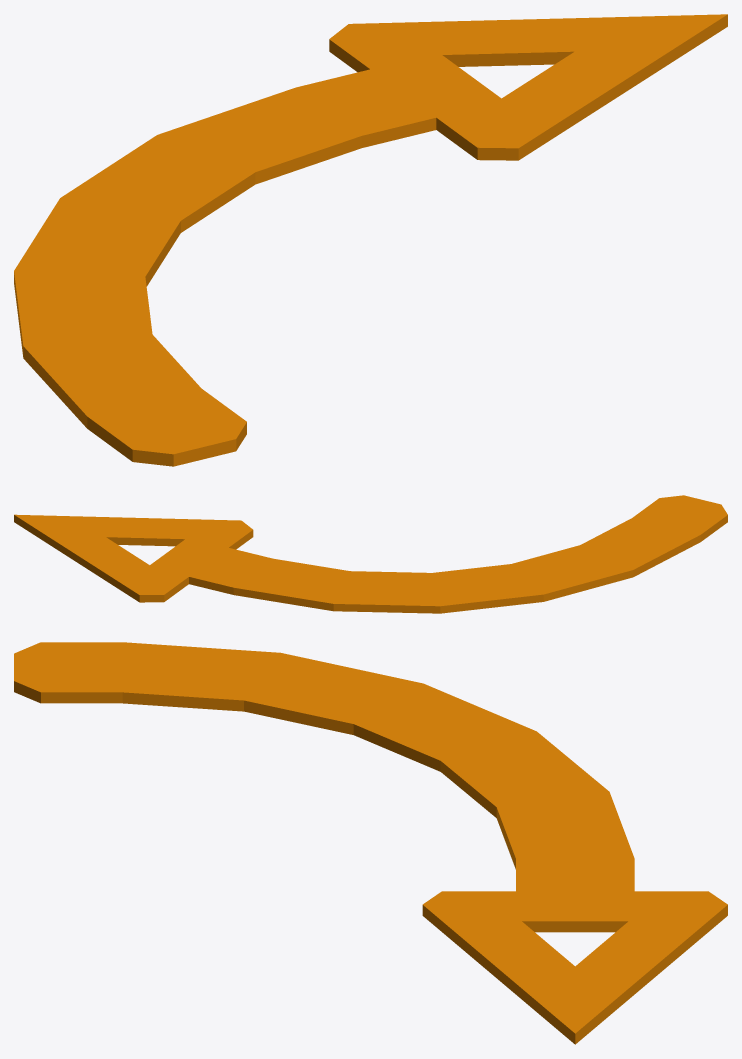
Rendered from LPSciFi_CurvedRoadArrow.fbx.
3 renders of one model, top to bottom at view 1: azimuth 30°, elevation 25°; view 2: azimuth 150°, elevation 25°; view 3: azimuth 270°, elevation 25°, orthographic. The views are drawn at different scales.
Parts seen in each view (by area): view 1: CurvedRoadArrow; view 2: CurvedRoadArrow; view 3: CurvedRoadArrow.
Part boxes in pixels (x1,y1,x2,y2): CurvedRoadArrow: [14, 14, 727, 466]; CurvedRoadArrow: [14, 495, 727, 613]; CurvedRoadArrow: [14, 642, 727, 1044].
Size of the model in its own units: 182 by 2.4 by 140.
